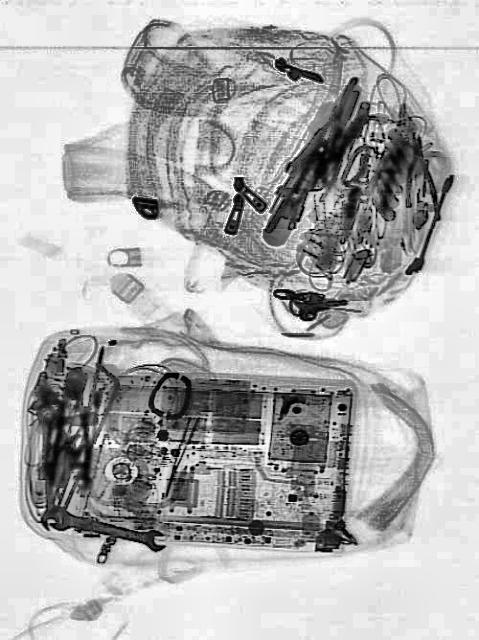Wrench: (50, 504, 166, 552), (32, 402, 59, 528)
